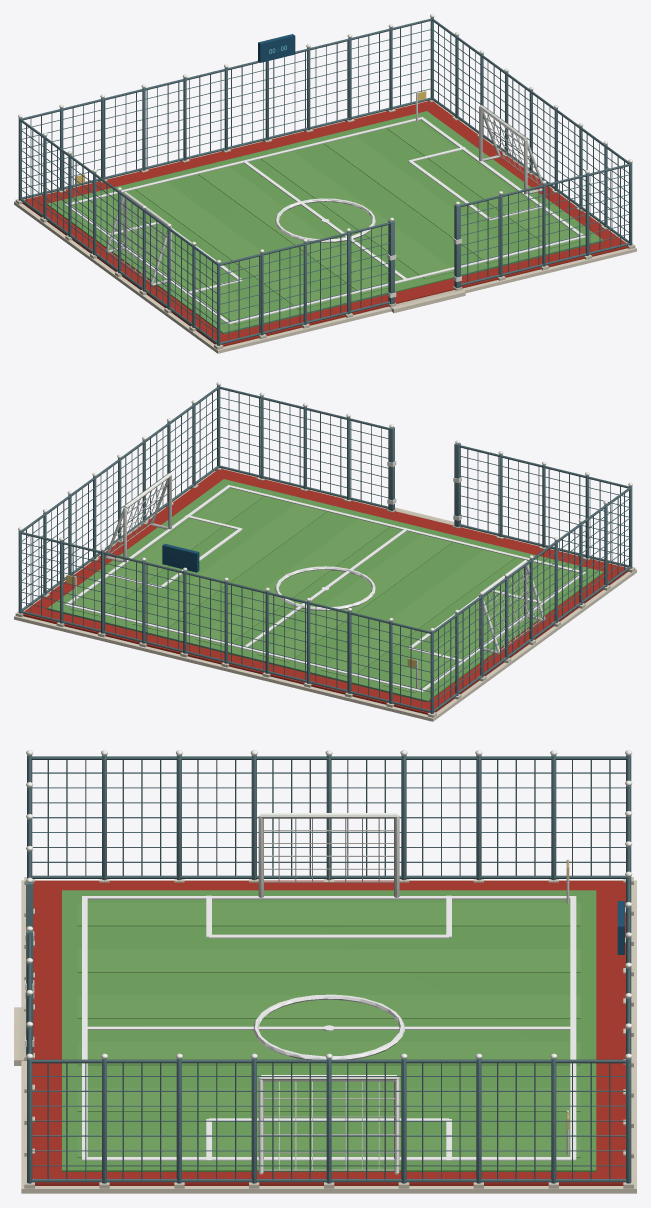
Rendered from football-field-low.glb.
3 views of the same model, one above another, from view 1: azimuth 30°, elevation 25°; view 2: azimuth 150°, elevation 25°; view 3: azimuth 270°, elevation 25° (orthographic). The views are drawn at different scales.
Parts seen in each view (by area): view 1: fence post, football turf, mown turf band, track edging, touchline, sports apron, goal upright, sports scoreboard; view 2: fence post, football turf, mown turf band, track edging, touchline, sports apron, goal upright, sports scoreboard; view 3: football turf, mown turf band, fence post, track edging, touchline, sports apron, goal upright.
Part boxes in pixels (x1,y1,x2,y2): fence post: (18, 17, 632, 345); football turf: (47, 111, 603, 334); mown turf band: (72, 121, 581, 324); track edging: (22, 101, 627, 346); touchline: (65, 117, 585, 324); sports apron: (14, 100, 636, 353); goal upright: (18, 14, 632, 297); sports scoreboard: (258, 34, 295, 62); fence post: (18, 385, 632, 713); football turf: (47, 479, 603, 702); mown turf band: (69, 488, 578, 692); track edging: (23, 469, 628, 714); touchline: (65, 485, 585, 692); sports apron: (14, 468, 636, 721); goal upright: (18, 382, 632, 688); sports scoreboard: (162, 543, 199, 572); football turf: (62, 890, 596, 1171); mown turf band: (77, 902, 580, 1157); fence post: (26, 755, 631, 1183); track edging: (32, 880, 625, 1185); touchline: (82, 895, 576, 1160); sports apron: (14, 877, 636, 1193); goal upright: (25, 750, 632, 1174).
Size of the model in its own units: 7 by 1.7 by 5.97.
